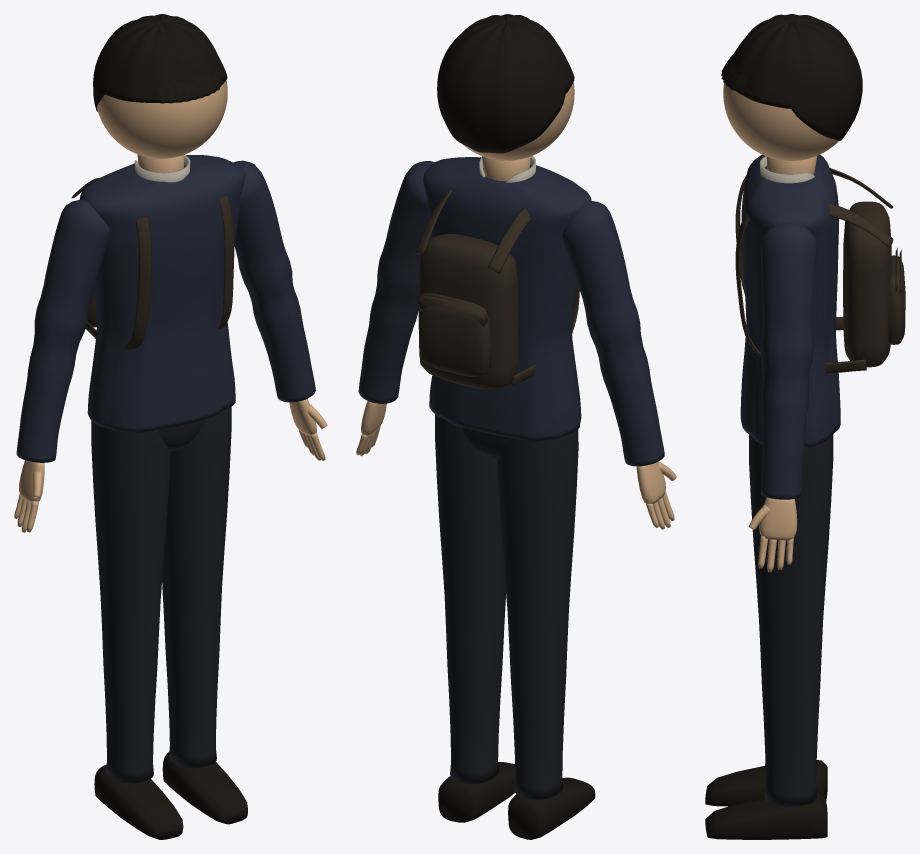
File: student.glb
3 renders of one model, left to right at view 1: azimuth 30°, elevation 25°; view 2: azimuth 150°, elevation 25°; view 3: azimuth 270°, elevation 25°, orthographic. The views are drawn at different scales.
Parts seen in each view (by area): view 1: Jacket, Trousers, Hair, Shoes, Head, Backpack, Hand_R, Hand_L, Collar; view 2: Jacket, Trousers, Backpack, Hair, Shoes, Head, Hand_R, Hand_L; view 3: Jacket, Trousers, Hair, Backpack, Shoes, Head, Hand_L, Collar.
Part boxes in pixels (x1,y1,x2,y2): Jacket: (16,155,315,462); Trousers: (91,406,231,783); Hair: (93,14,227,111); Shoes: (94,752,247,839); Head: (97,80,227,172); Backpack: (71,177,234,349); Hand_R: (14,460,44,532); Hand_L: (289,399,327,460); Collar: (134,155,190,182); Jacket: (358,157,664,466); Trousers: (435,414,578,799); Backpack: (415,190,579,389); Hair: (437,14,574,153); Shoes: (438,761,595,839); Head: (462,82,574,181); Hand_R: (636,461,676,529); Hand_L: (356,401,386,456); Jacket: (740,154,840,499); Trousers: (749,434,833,806); Hair: (721,14,862,140); Backpack: (735,167,905,373); Shoes: (705,760,827,839); Head: (723,83,838,174); Hand_L: (748,497,797,572); Collar: (759,156,814,183).
Size of the model in its own units: 0.7038 by 1.75 by 0.3985.
